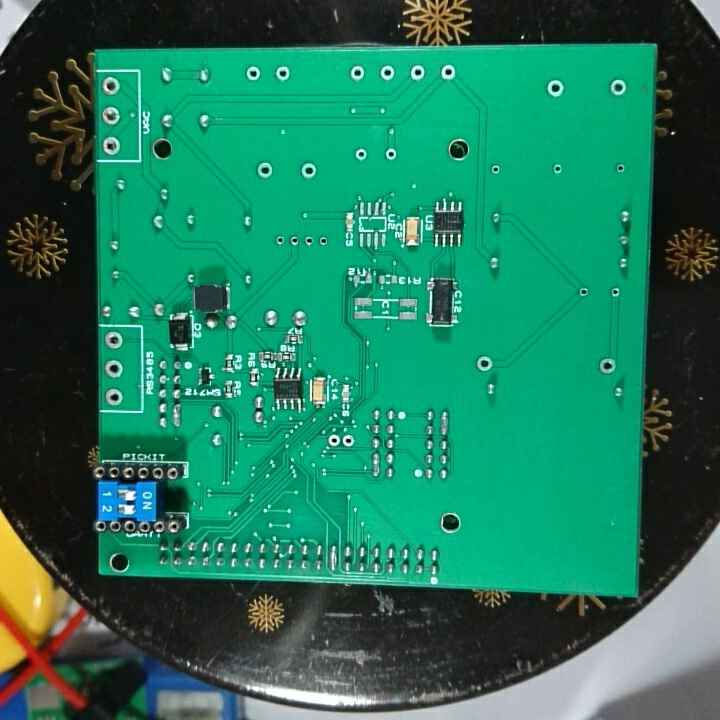F: (544, 75, 568, 103), (99, 133, 125, 157), (607, 73, 629, 101), (101, 357, 127, 380), (103, 327, 125, 353), (102, 383, 125, 407), (99, 103, 122, 126), (596, 354, 618, 378), (100, 73, 122, 97), (253, 159, 274, 183), (273, 63, 294, 86), (474, 352, 494, 376), (244, 63, 264, 86), (407, 63, 429, 83), (347, 62, 367, 84), (298, 159, 318, 181), (438, 61, 458, 82), (379, 63, 398, 85), (352, 145, 370, 166), (325, 431, 341, 454), (383, 143, 399, 165), (576, 283, 592, 302), (612, 160, 629, 177), (316, 232, 330, 252), (341, 432, 355, 452), (287, 233, 303, 250), (609, 285, 623, 303), (488, 160, 502, 178), (273, 233, 287, 249), (552, 160, 564, 178), (304, 232, 315, 251)
P: (327, 542, 340, 573), (169, 402, 183, 429), (438, 408, 450, 434), (370, 452, 381, 478)
